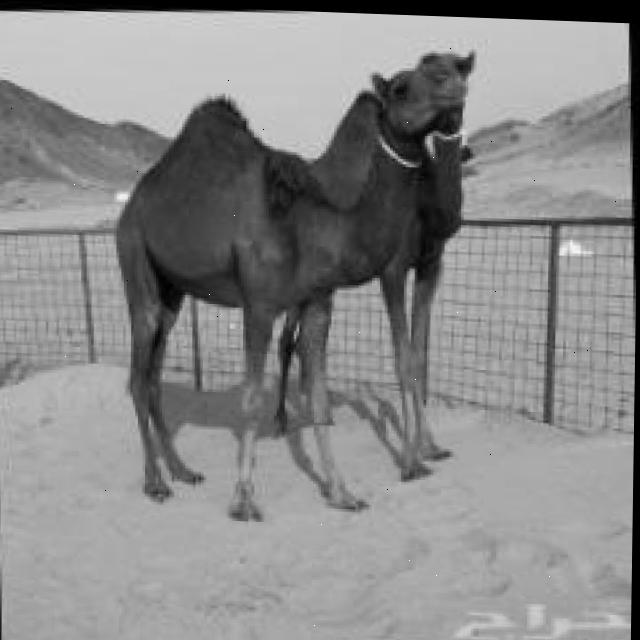Camel: (110, 34, 477, 529), (270, 42, 474, 479)
